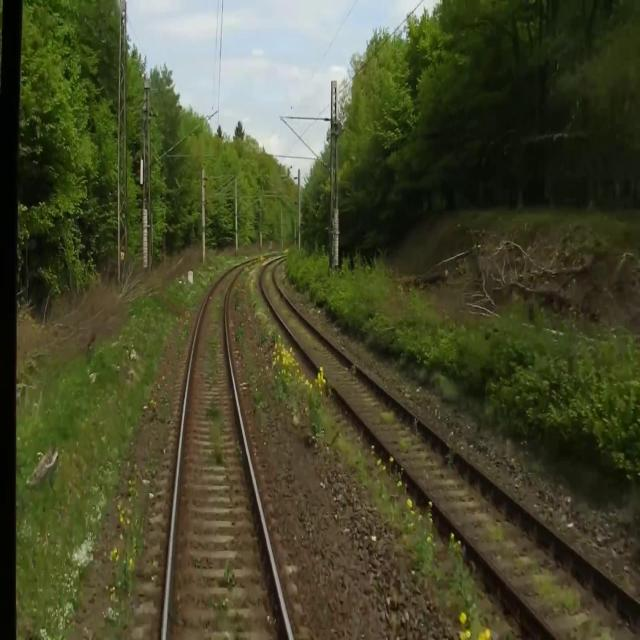rail-track: (261, 257, 640, 639), (166, 257, 289, 639)
